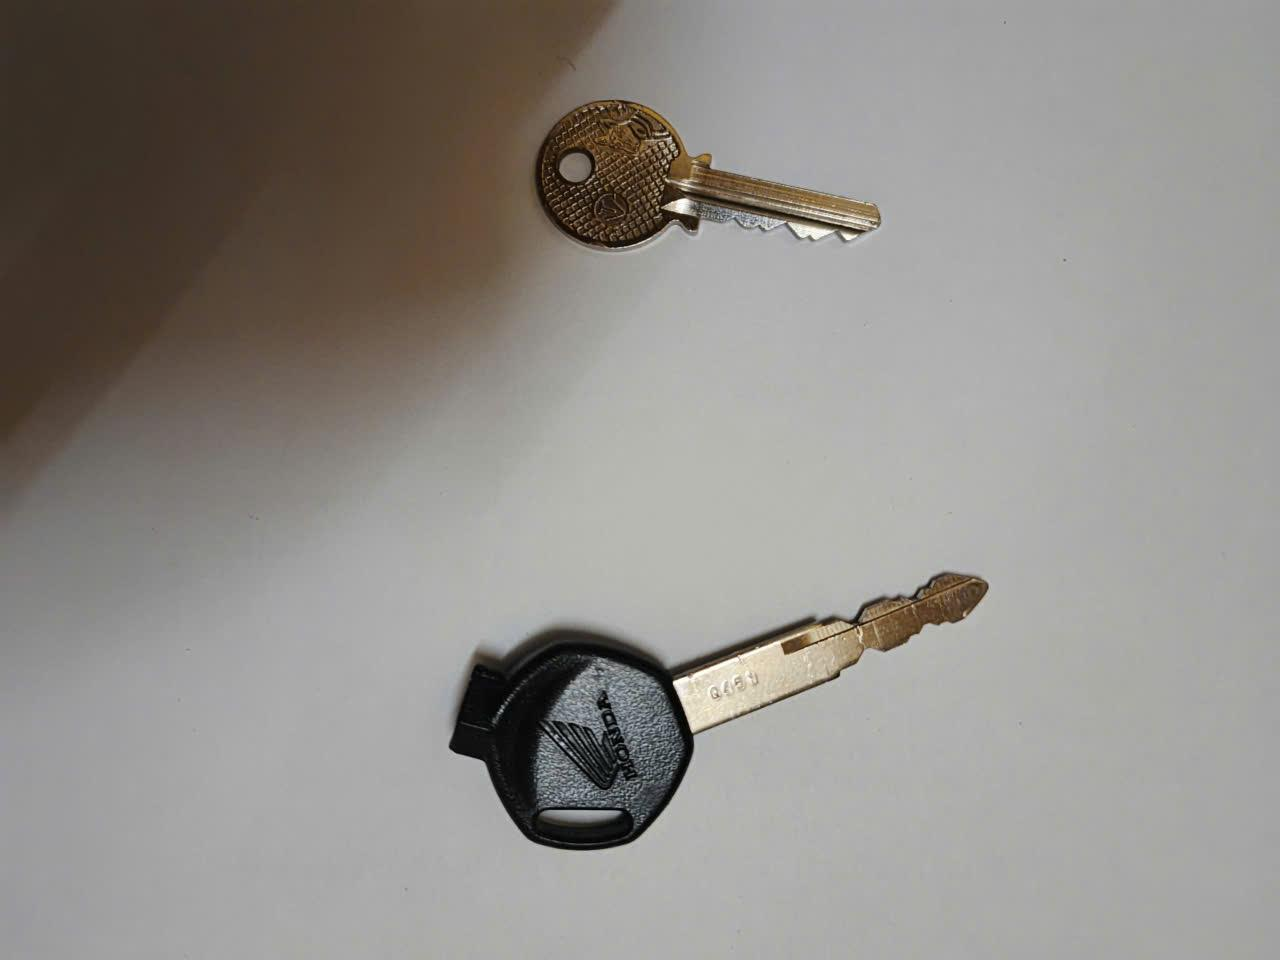Vo co: (447, 565, 991, 850), (534, 95, 885, 254)
